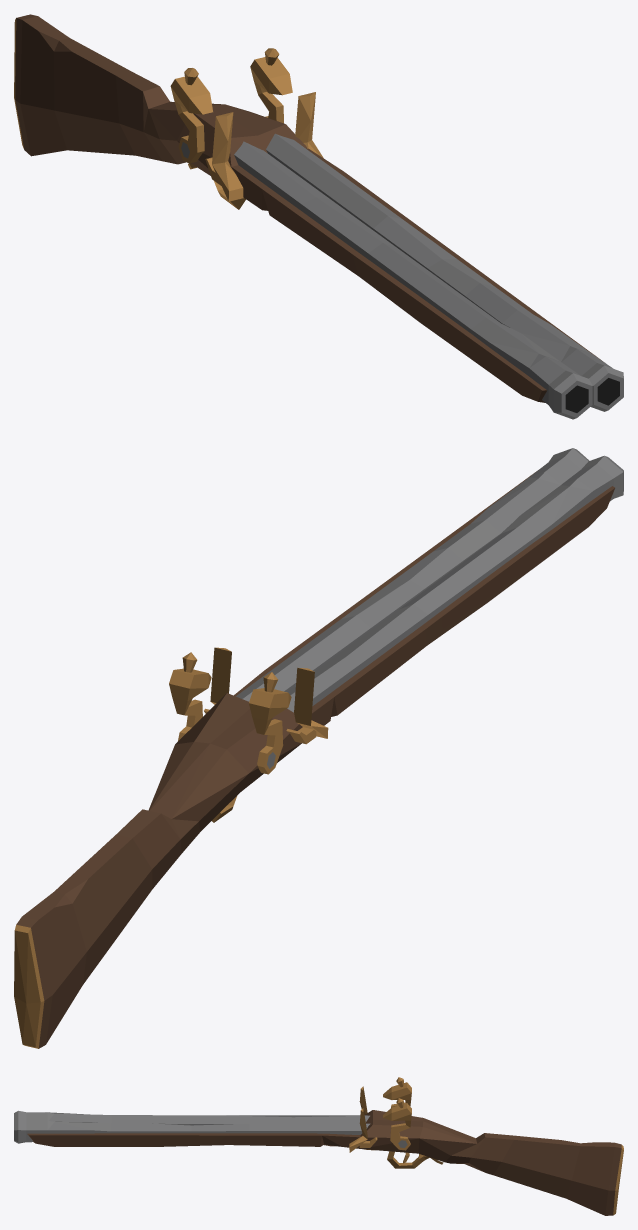
Rendered from SM_Wep_Rifle_DoubleBarrel_01_Separate.glb.
3 views of the same model, one above another, from view 1: azimuth 30°, elevation 25°; view 2: azimuth 150°, elevation 25°; view 3: azimuth 270°, elevation 25° (orthographic). The views are drawn at different scales.
Visible parts, largest first — view 1: SM_Wep_Rifle_DoubleBarrel_01_Trigger_R; view 2: SM_Wep_Rifle_DoubleBarrel_01_Trigger_R; view 3: SM_Wep_Rifle_DoubleBarrel_01_Trigger_R.
Part boxes in pixels (<box>): SM_Wep_Rifle_DoubleBarrel_01_Trigger_R: <box>14,14,623,419</box>; SM_Wep_Rifle_DoubleBarrel_01_Trigger_R: <box>14,448,623,1048</box>; SM_Wep_Rifle_DoubleBarrel_01_Trigger_R: <box>14,1077,623,1215</box>.
Bounding box in the file's own units: 0.00142 × 0.00322 × 0.014.
